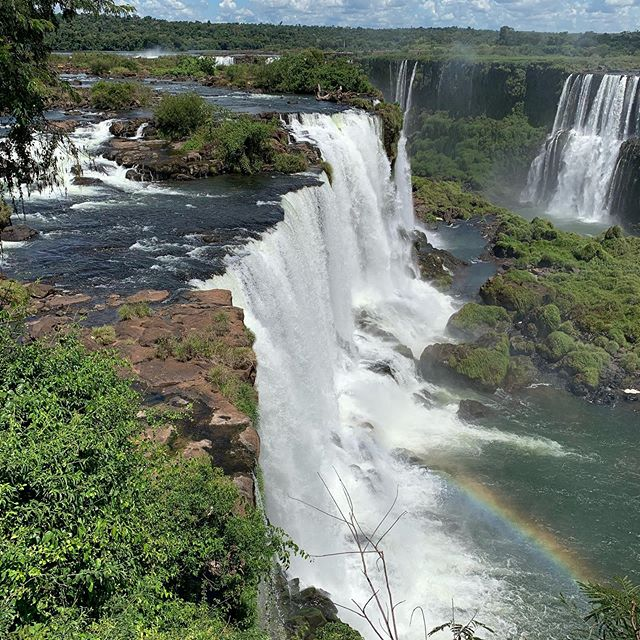rainbow: (413, 452, 640, 640)
sky: (132, 1, 628, 26)
waterfall: (184, 92, 473, 602), (524, 60, 640, 223)
